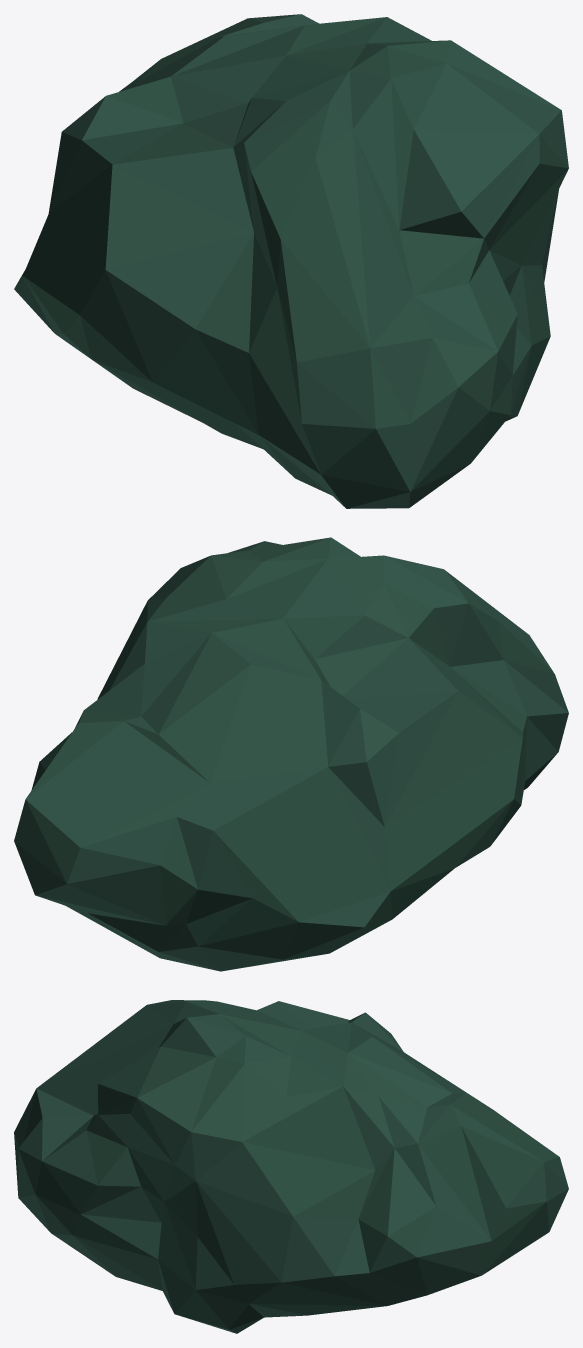
The model's file is SM_large_rock_05.fbx.
The picture shows the model from 3 angles, top to bottom: view 1: azimuth 30°, elevation 25°; view 2: azimuth 150°, elevation 25°; view 3: azimuth 270°, elevation 25°; orthographic projection. The views are drawn at different scales.
Visible parts, largest first — view 1: large_rock_05; view 2: large_rock_05; view 3: large_rock_05.
Part boxes in pixels (x1=…): large_rock_05: x1=14, y1=14, x2=568, y2=508; large_rock_05: x1=14, y1=537, x2=568, y2=971; large_rock_05: x1=14, y1=1000, x2=568, y2=1333.
Bounding box in the file's own units: 48.81 × 39.34 × 70.71.
